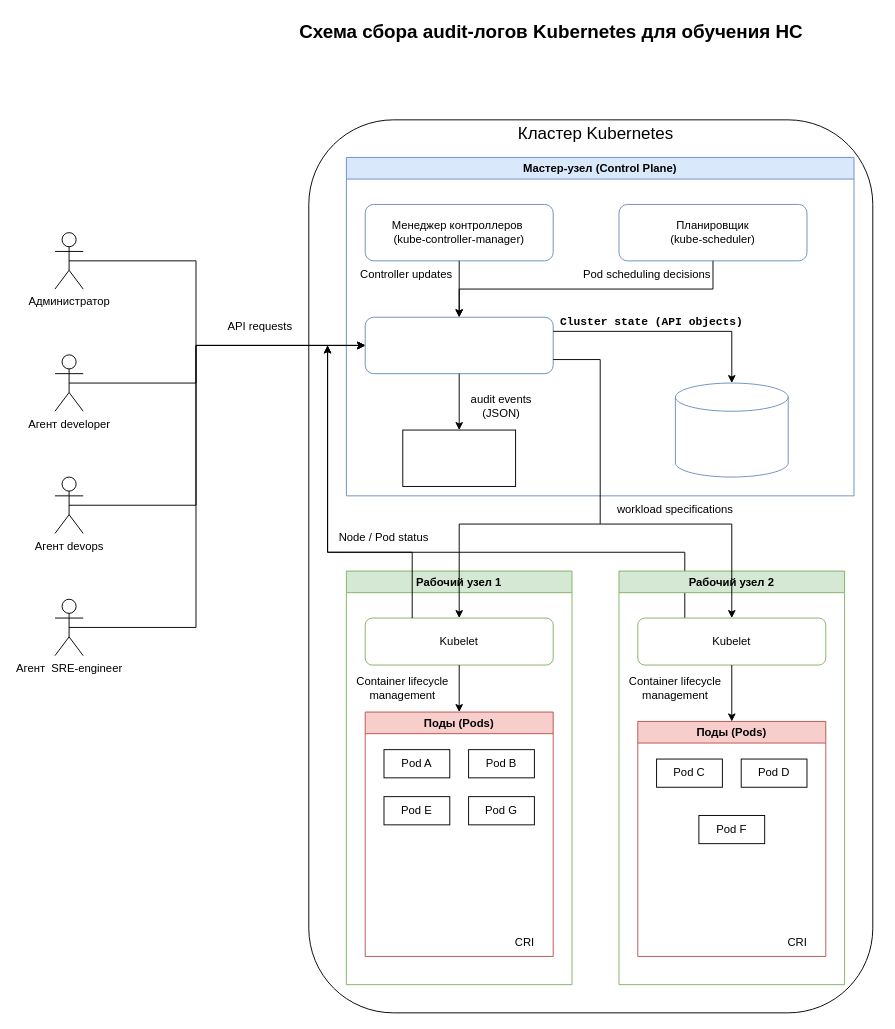
Some shapes in this 895 by 1029 pixel diagram are drawn without their labels. Each missing label, with the box of its shape:
API Сервер (kube-apiserver): (364, 316, 553, 374)
audit.log: (402, 429, 516, 486)
etcd (Хранилище данных): (674, 382, 788, 477)
